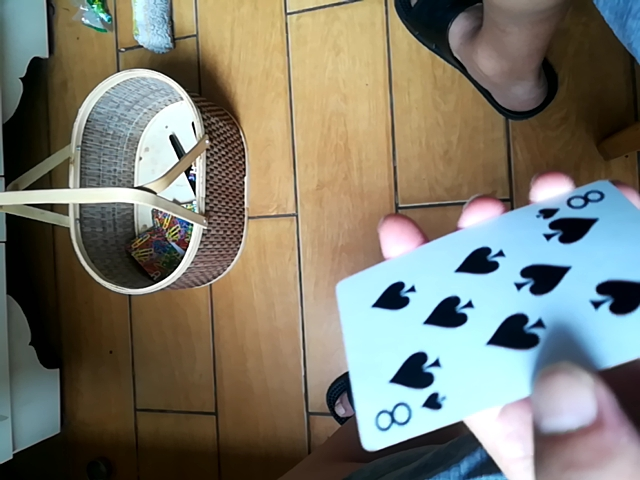ht 8: (335, 174, 640, 454)
